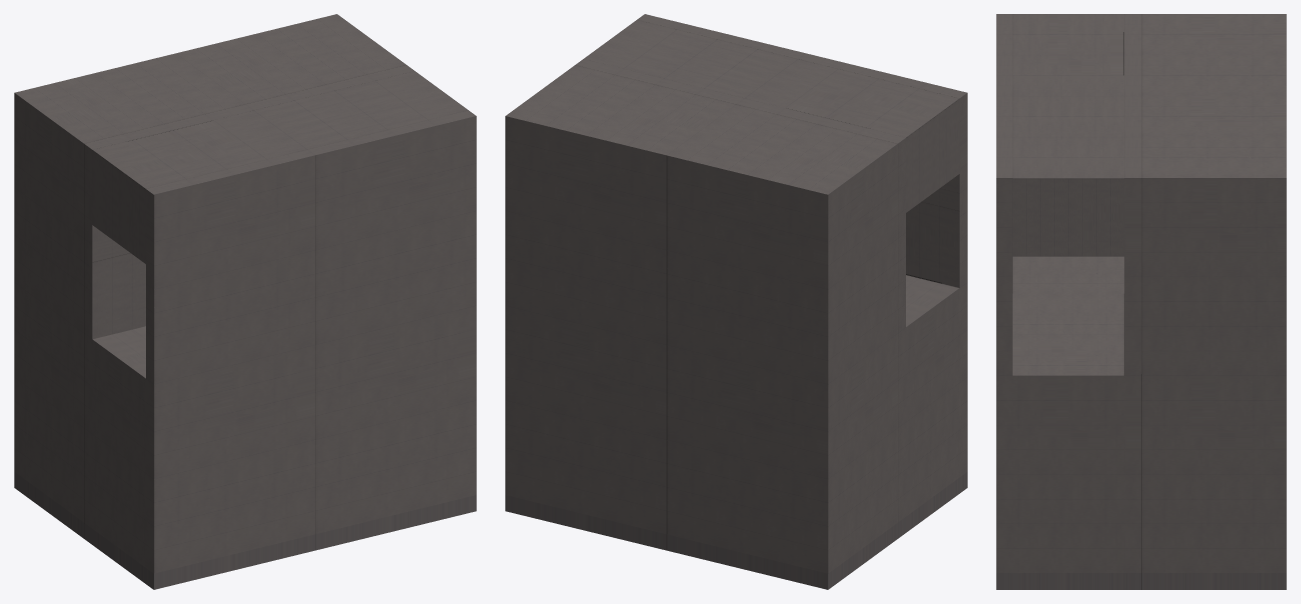
The model's file is 134_room.fbx.
3 views of the same model, side by side, from view 1: azimuth 30°, elevation 25°; view 2: azimuth 150°, elevation 25°; view 3: azimuth 270°, elevation 25° (orthographic). The views are drawn at different scales.
Parts seen in each view (by area): view 1: Salle_134, Salle_134_Roof; view 2: Salle_134, Salle_134_Roof; view 3: Salle_134, Salle_134_Roof.
Part boxes in pixels (x1,y1,x2,y2): Salle_134: [14, 14, 476, 589]; Salle_134_Roof: [92, 71, 468, 263]; Salle_134: [505, 14, 967, 589]; Salle_134_Roof: [584, 20, 959, 212]; Salle_134: [996, 14, 1286, 589]; Salle_134_Roof: [1012, 14, 1124, 256].
Size of the model in its own units: 897 by 1049 by 671.
1 material, 1 textured.
